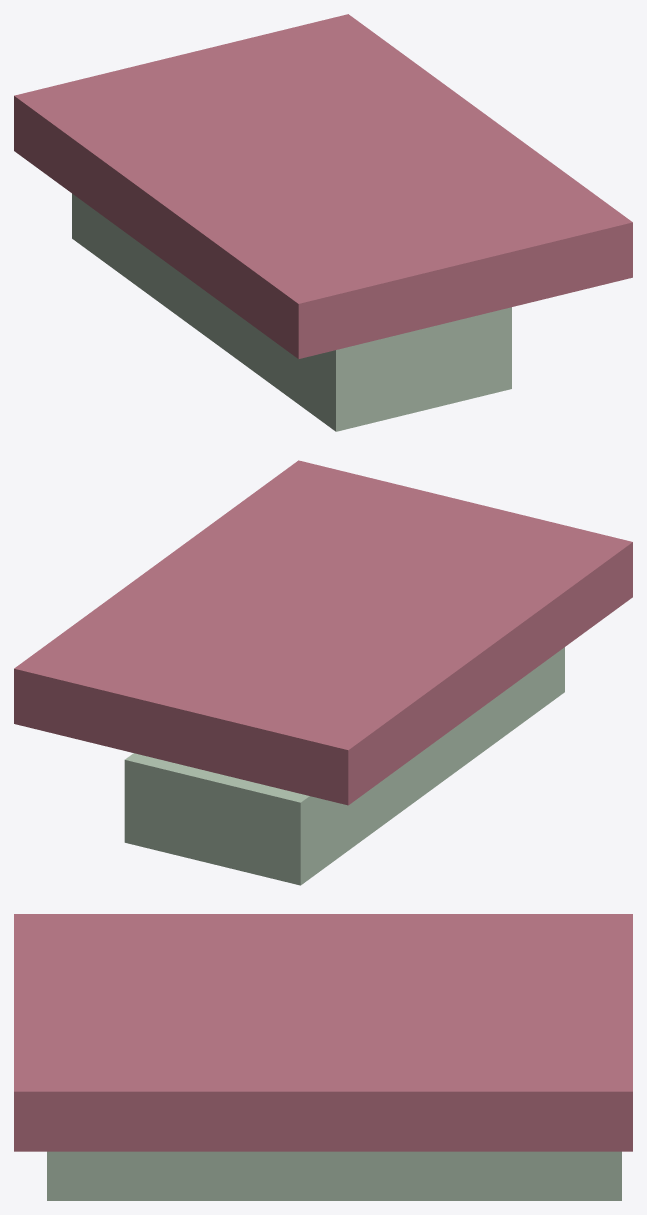
File: 199548_pred.glb
3 views of the same model, one above another, from view 1: azimuth 30°, elevation 25°; view 2: azimuth 150°, elevation 25°; view 3: azimuth 270°, elevation 25° (orthographic). The views are drawn at different scales.
Parts seen in each view (by area): view 1: world; view 2: world; view 3: world.
Part boxes in pixels (x1,y1,x2,y2): world: (14, 14, 632, 431); world: (14, 460, 632, 885); world: (14, 914, 632, 1200).
Bounding box in the file's own units: 3.8 × 1.65 × 5.6.
